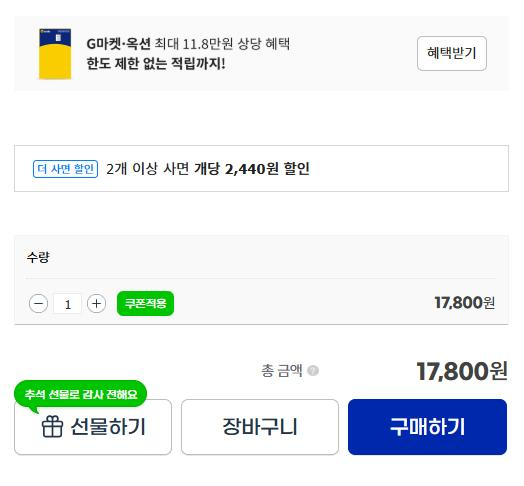button: (15, 399, 174, 456), (349, 399, 507, 453), (182, 401, 336, 451), (416, 39, 489, 71), (119, 293, 171, 316), (30, 294, 48, 312), (92, 295, 105, 307)
